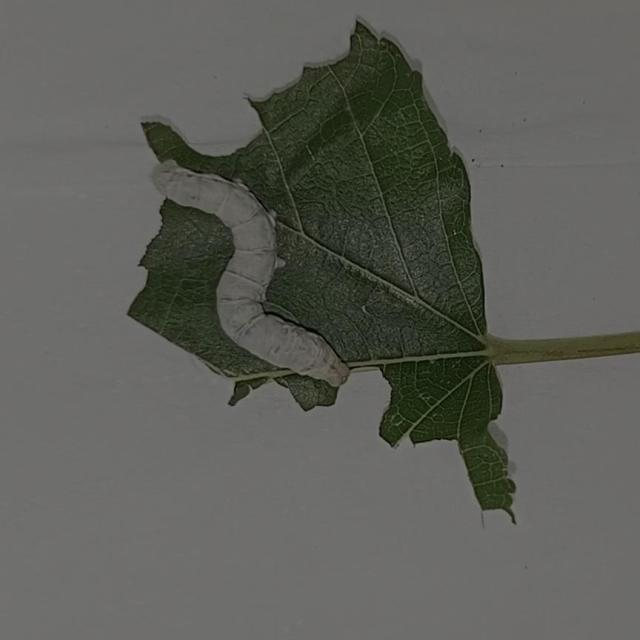Healthy: (138, 129, 412, 409)
